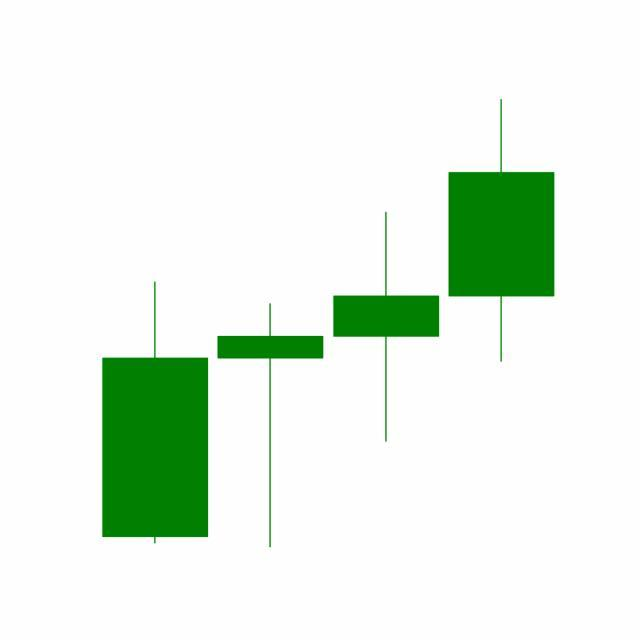Spinning Top: (329, 210, 445, 446)
